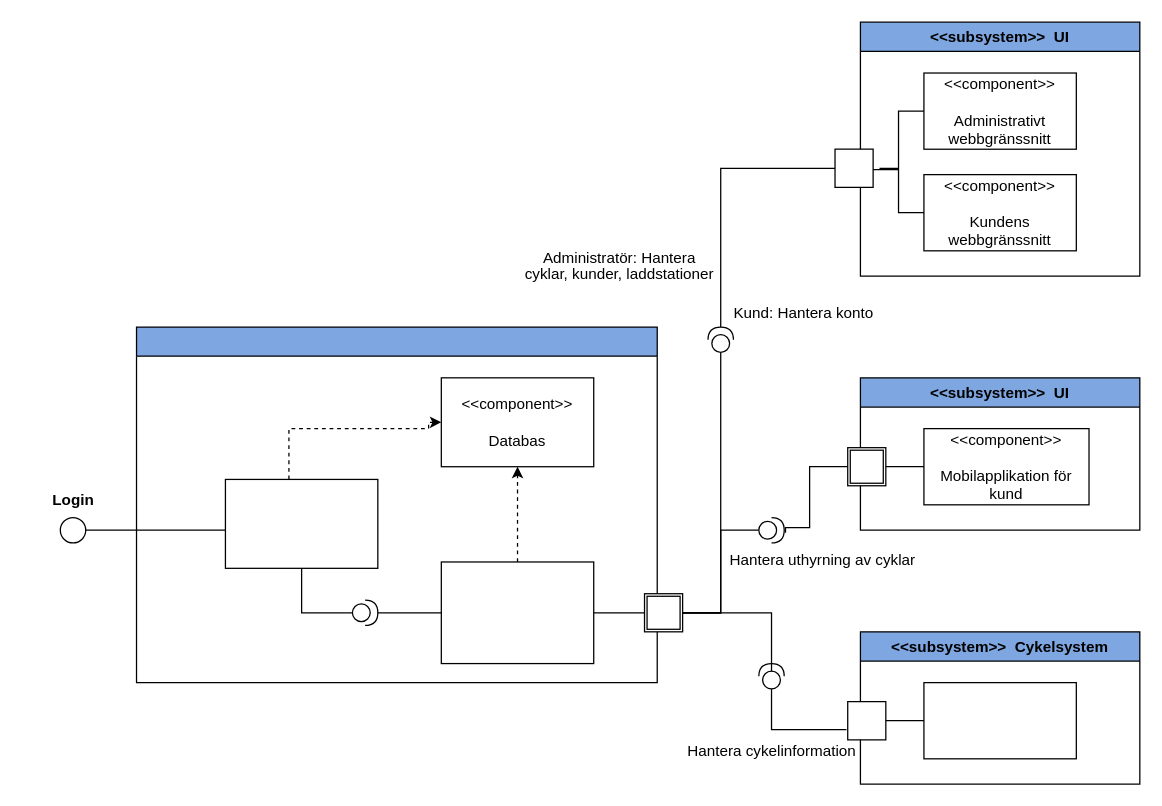
Image size: 1162x806. Some labels were removed from this diagram. The box of each missing label's shape, as (x1, y1, x2, y2) in pixels:
<<component>> Autentisering: (224, 478, 378, 568)
<<component>> Backendservice / REST API: (440, 561, 594, 664)
<<component>> Cykelns program: (923, 681, 1076, 759)
<<subsystem>> Server: (135, 326, 657, 683)
